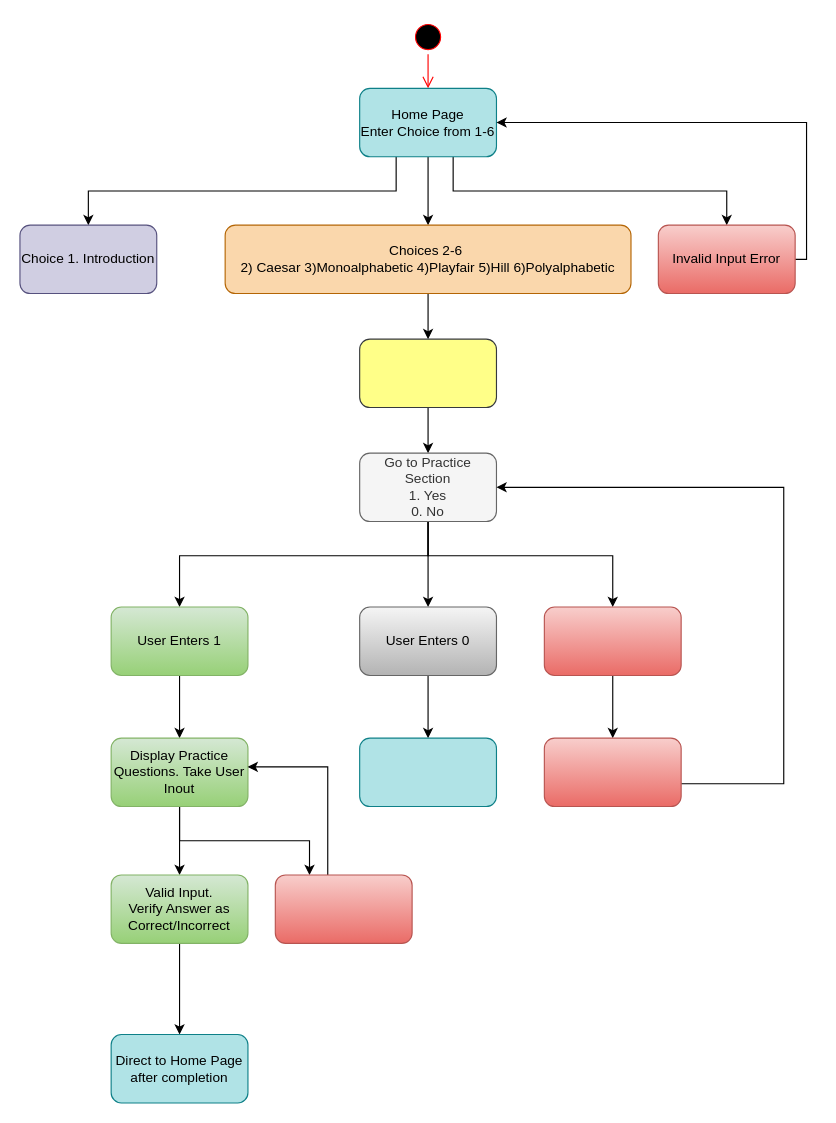
Some shapes in this 836 by 1123 pixel diagram are drawn without their labels. Here are the shapes that lost their labels. From the top down, the centre of each, then its label:
At point (427, 373): "Display Information and Formulae for chosen topic".
At point (612, 640): "User Enters Invalid Input".
At point (427, 772): "Direct to Hoem Page".
At point (612, 772): "Display Invalid Input Error".
At point (343, 908): "Invalid Input. Display Error message".
